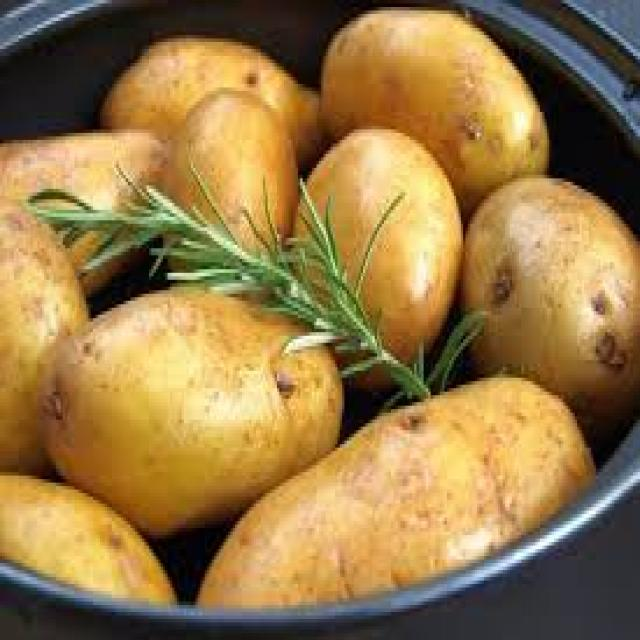organic waste: (26, 161, 491, 402), (189, 371, 598, 605), (37, 286, 342, 532), (460, 164, 638, 448), (316, 3, 547, 214), (288, 122, 458, 396), (95, 32, 319, 172), (0, 126, 172, 308), (156, 87, 295, 273), (0, 192, 88, 475), (0, 468, 179, 602)
